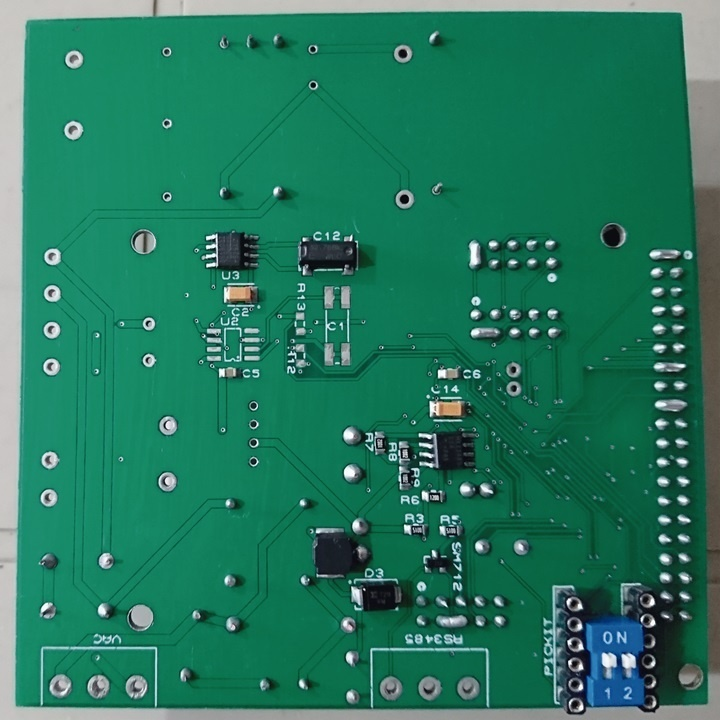F: (122, 672, 151, 700), (85, 673, 113, 702), (47, 672, 73, 699), (456, 677, 481, 703), (61, 48, 87, 72), (418, 675, 442, 701), (155, 470, 180, 494), (156, 413, 180, 437), (63, 118, 86, 143), (379, 675, 401, 700), (336, 614, 359, 637), (36, 599, 57, 624), (38, 449, 60, 472), (393, 189, 416, 210), (39, 486, 59, 510), (95, 551, 116, 573), (41, 319, 62, 340), (42, 283, 63, 304), (41, 245, 62, 266), (393, 44, 413, 66), (42, 356, 61, 378), (344, 646, 361, 669), (504, 380, 523, 399), (511, 538, 529, 556), (216, 34, 230, 55), (345, 688, 361, 706), (505, 362, 521, 380), (160, 115, 174, 134), (430, 182, 446, 198), (141, 315, 156, 332), (141, 353, 157, 367), (245, 398, 261, 412), (247, 453, 261, 469), (306, 75, 319, 92), (307, 41, 319, 58), (160, 44, 173, 59), (247, 416, 260, 431), (247, 435, 259, 449), (161, 190, 172, 203)
P: (653, 397, 691, 415), (647, 245, 682, 263), (467, 238, 484, 272), (653, 359, 688, 375), (433, 613, 468, 629), (466, 325, 502, 340)
